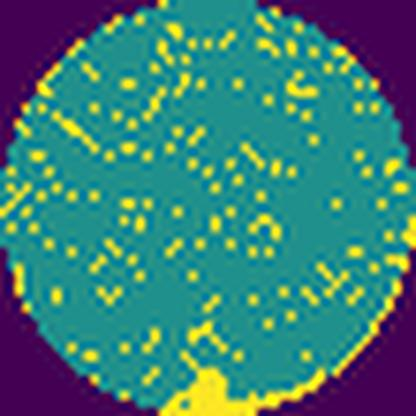Edge-Loc: (134, 206, 416, 415)
